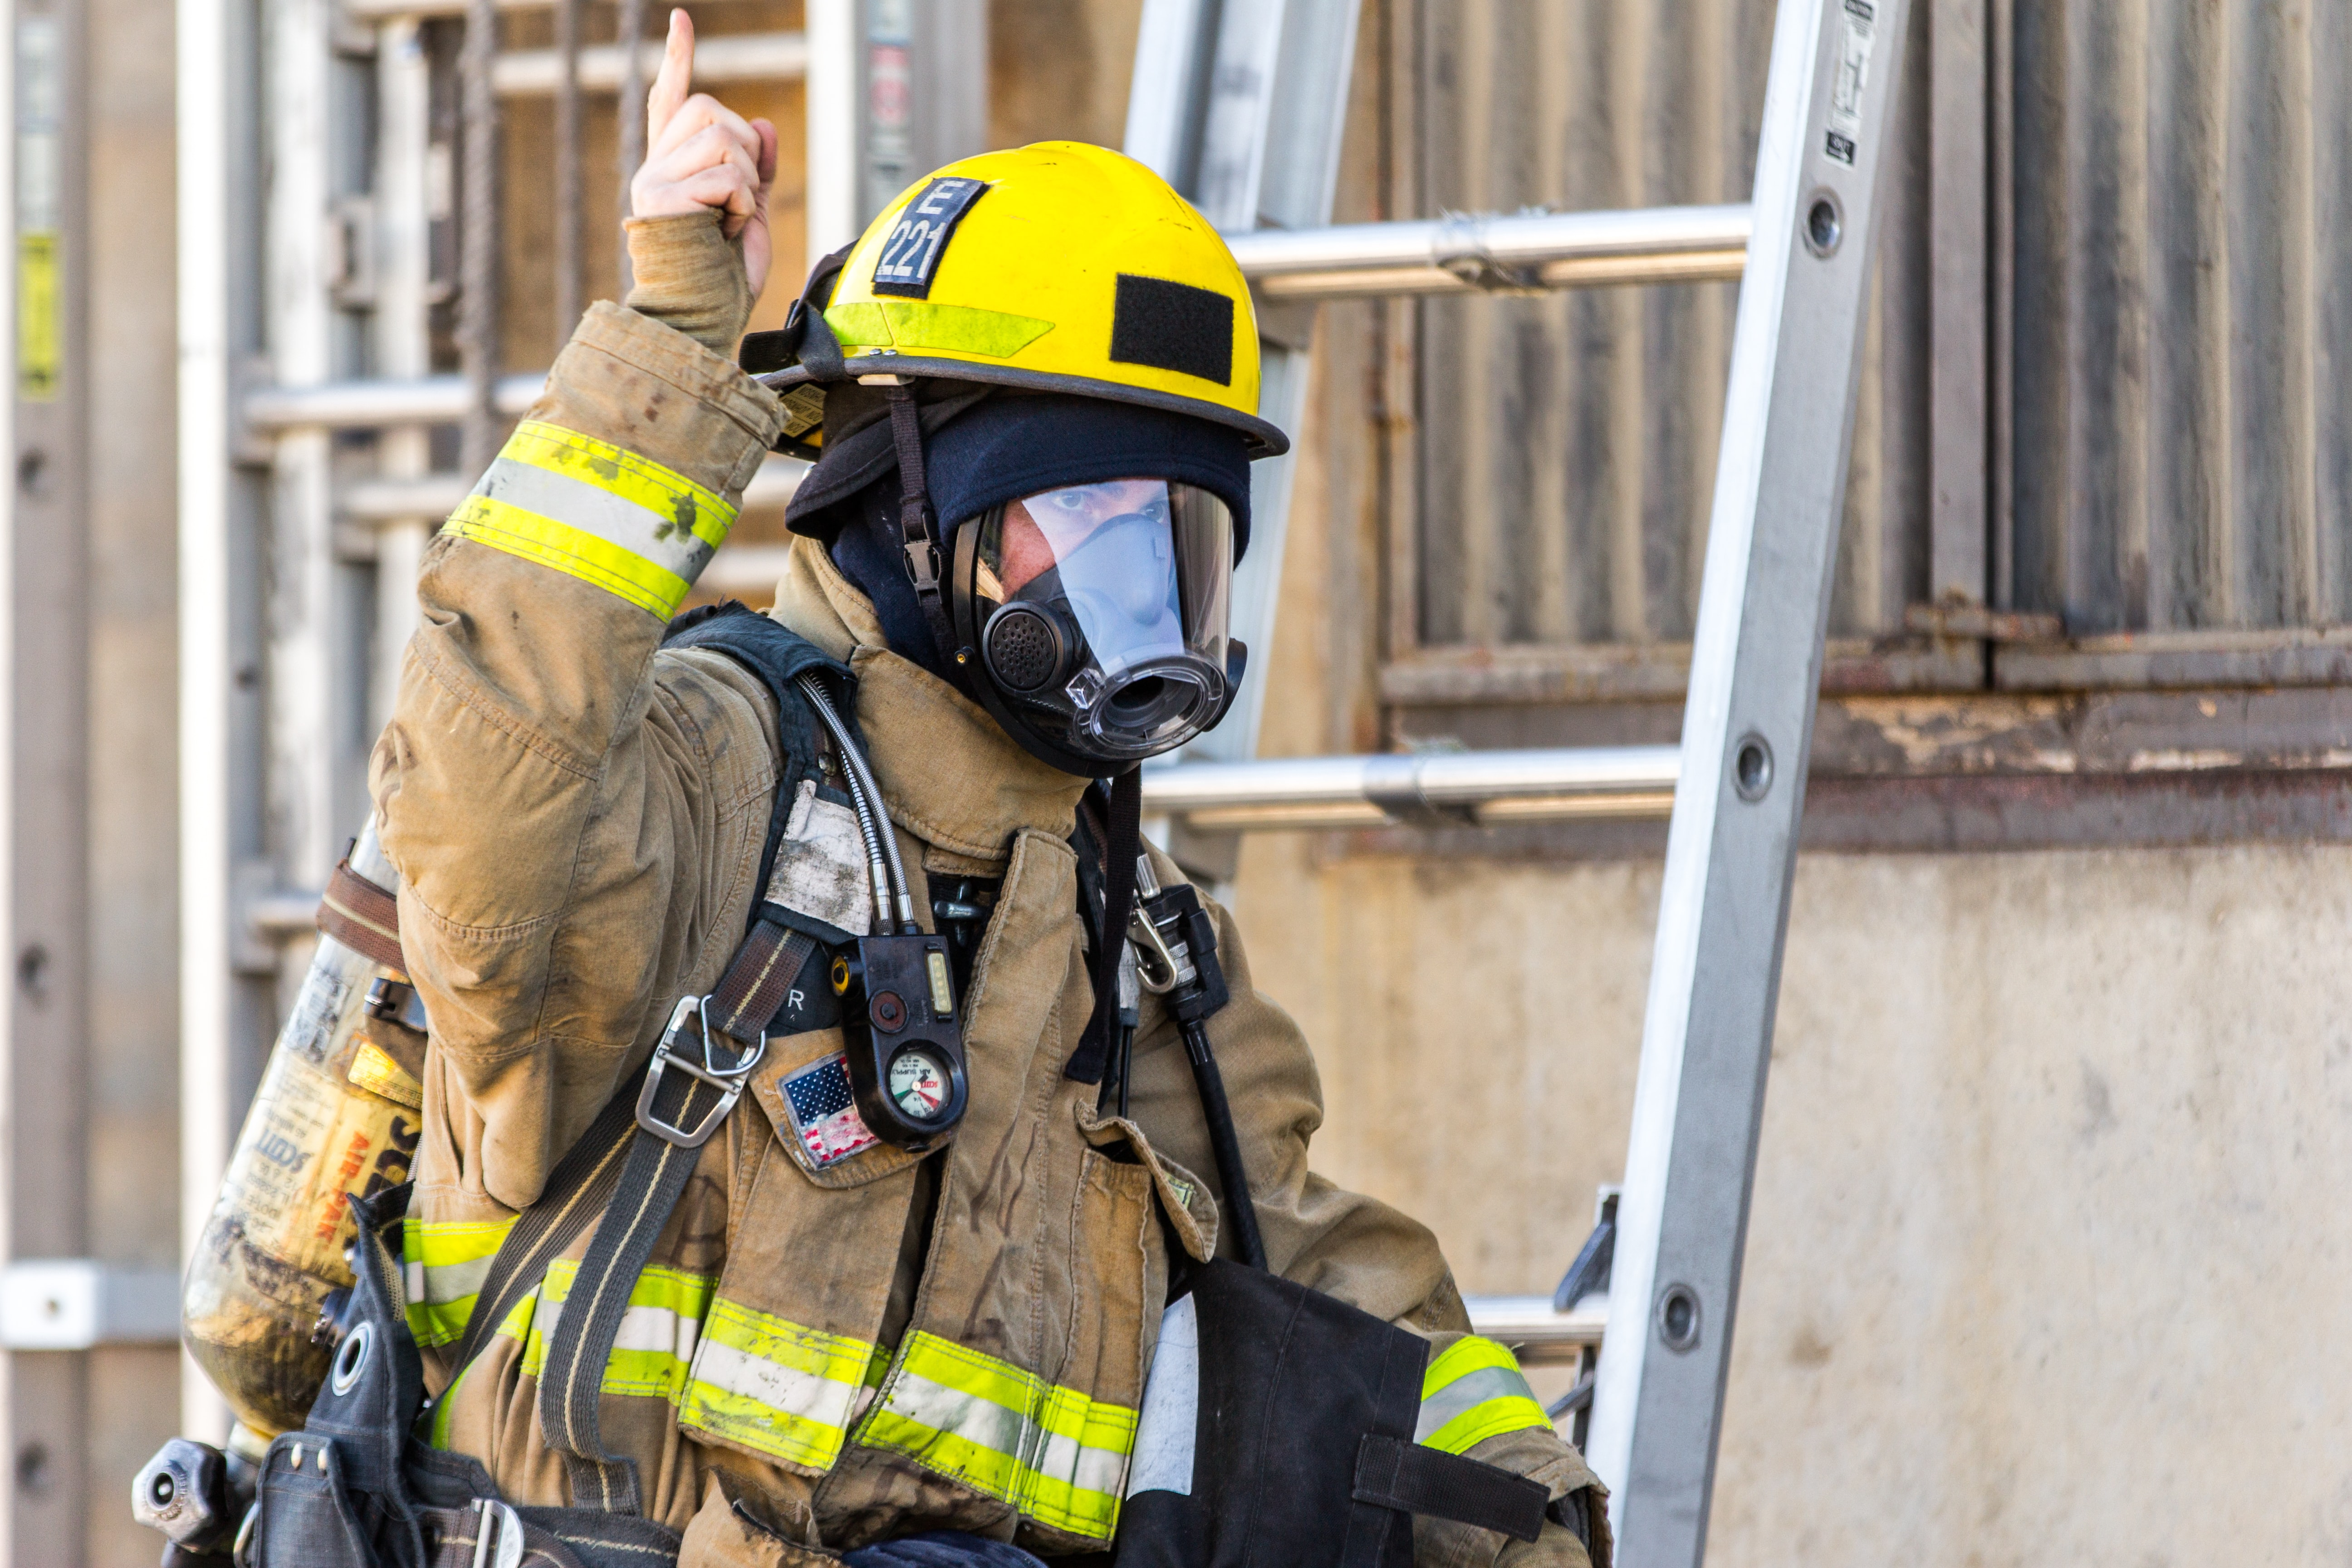emergent: (396, 32, 1269, 1568)
